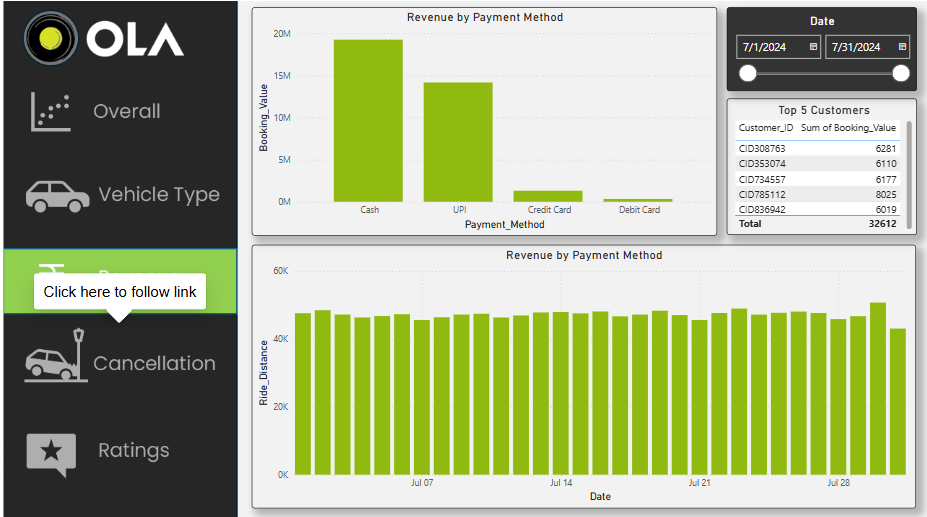

The page's visual inventory and layout, read from the dashboard file:
{"tool":"powerbi","page":{"name":"Revenue","canvas":[1280,720],"ordinal":2},"visuals":[{"type":"actionButton","box":[0,213.5,324.5,89.3],"z":0},{"type":"actionButton","box":[0,447.6,324.5,97.7],"z":1000},{"type":"actionButton","box":[0,574.3,324.5,97.7],"z":2000},{"type":"actionButton","box":[0,114.6,324.5,89.3],"z":3000},{"type":"columnChart","title":"Revenue by Payment_Method","fields":{"Category":["July.Payment_Method"],"Y":["Sum(July.Booking_Value)"]},"box":[332.1,9,594,351.3],"z":3001},{"type":"columnChart","title":"Revenue by Payment_Method","fields":{"Y":["Sum(July.Ride_Distance)"],"Category":["July.Date"]},"box":[332.1,374.6,938.6,340.3],"z":3002},{"type":"slicer","title":"Date","fields":{"Values":["July.Date"]},"box":[937.2,8.2,343.1,107],"z":3003},{"type":"tableEx","fields":{"Values":["July.Customer_ID","Sum(July.Booking_Value)"]},"box":[937,115,343,245],"z":3004}]}

Visuals, with their boxes in screenshot pixels (x1, y1, x2, y2), scaled from the page's 1280x720 canvas onto the 927x517 screenshot:
actionButton: 0, 153, 235, 217
actionButton: 0, 321, 235, 392
actionButton: 0, 412, 235, 483
actionButton: 0, 82, 235, 146
"Revenue by Payment_Method" columnChart: 241, 6, 671, 259
"Revenue by Payment_Method" columnChart: 241, 269, 920, 513
"Date" slicer: 679, 6, 926, 83
tableEx - July.Customer_ID x Sum(July.Booking_Value): 679, 83, 926, 258
